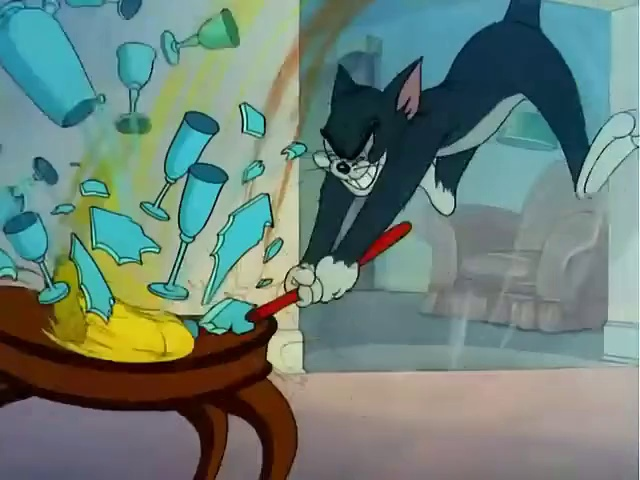tom: (245, 37, 634, 304)
